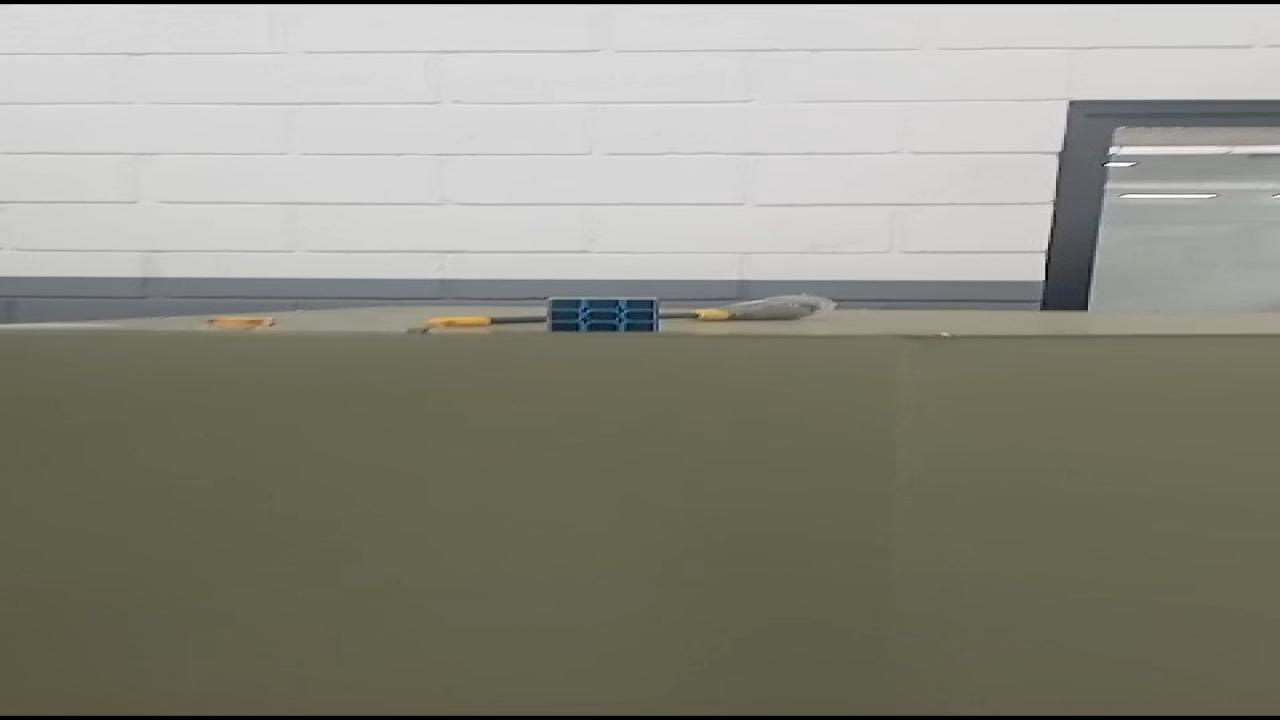Cube: (541, 295, 659, 333)
